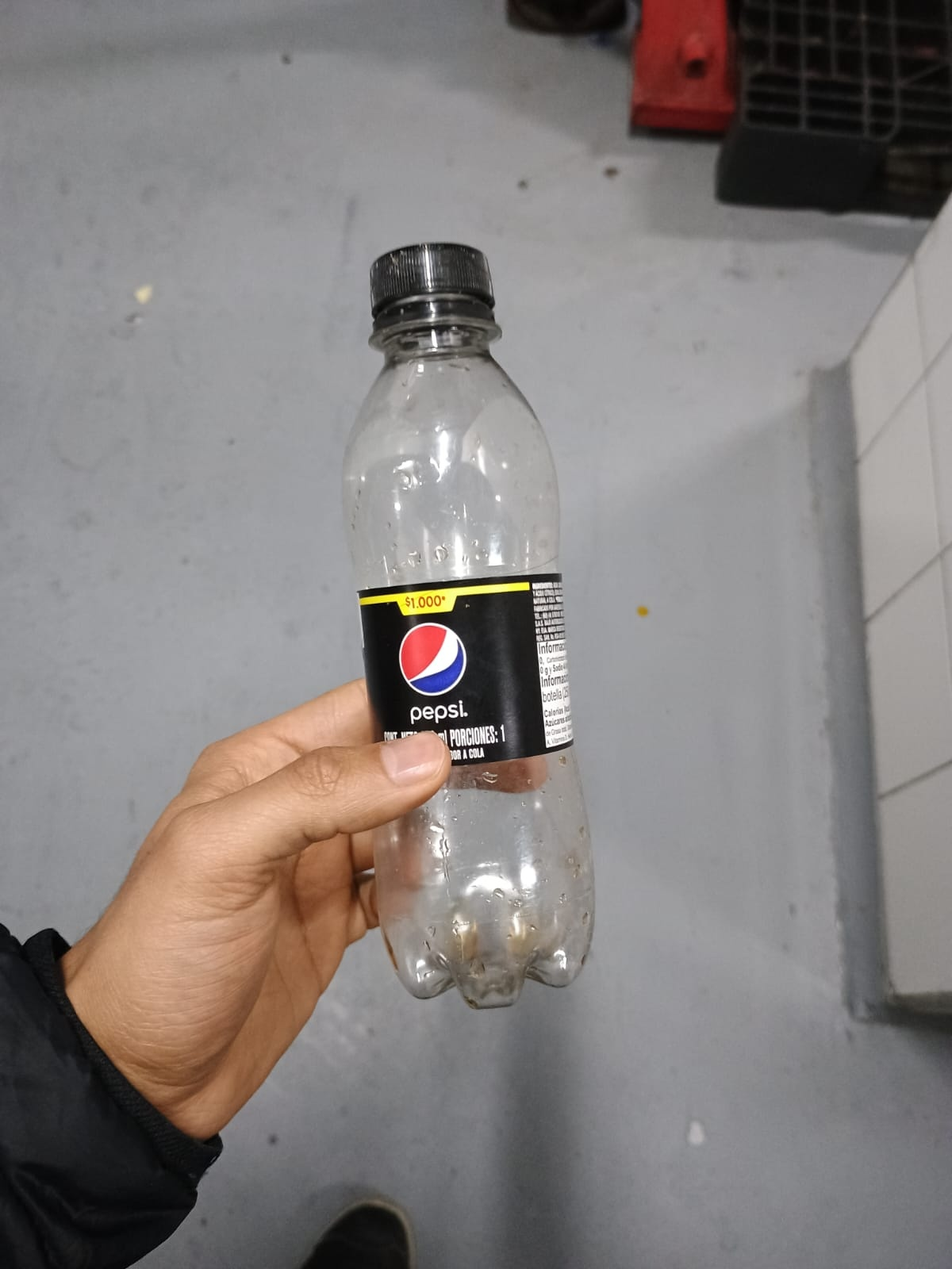Plastico: (340, 241, 597, 1004)
